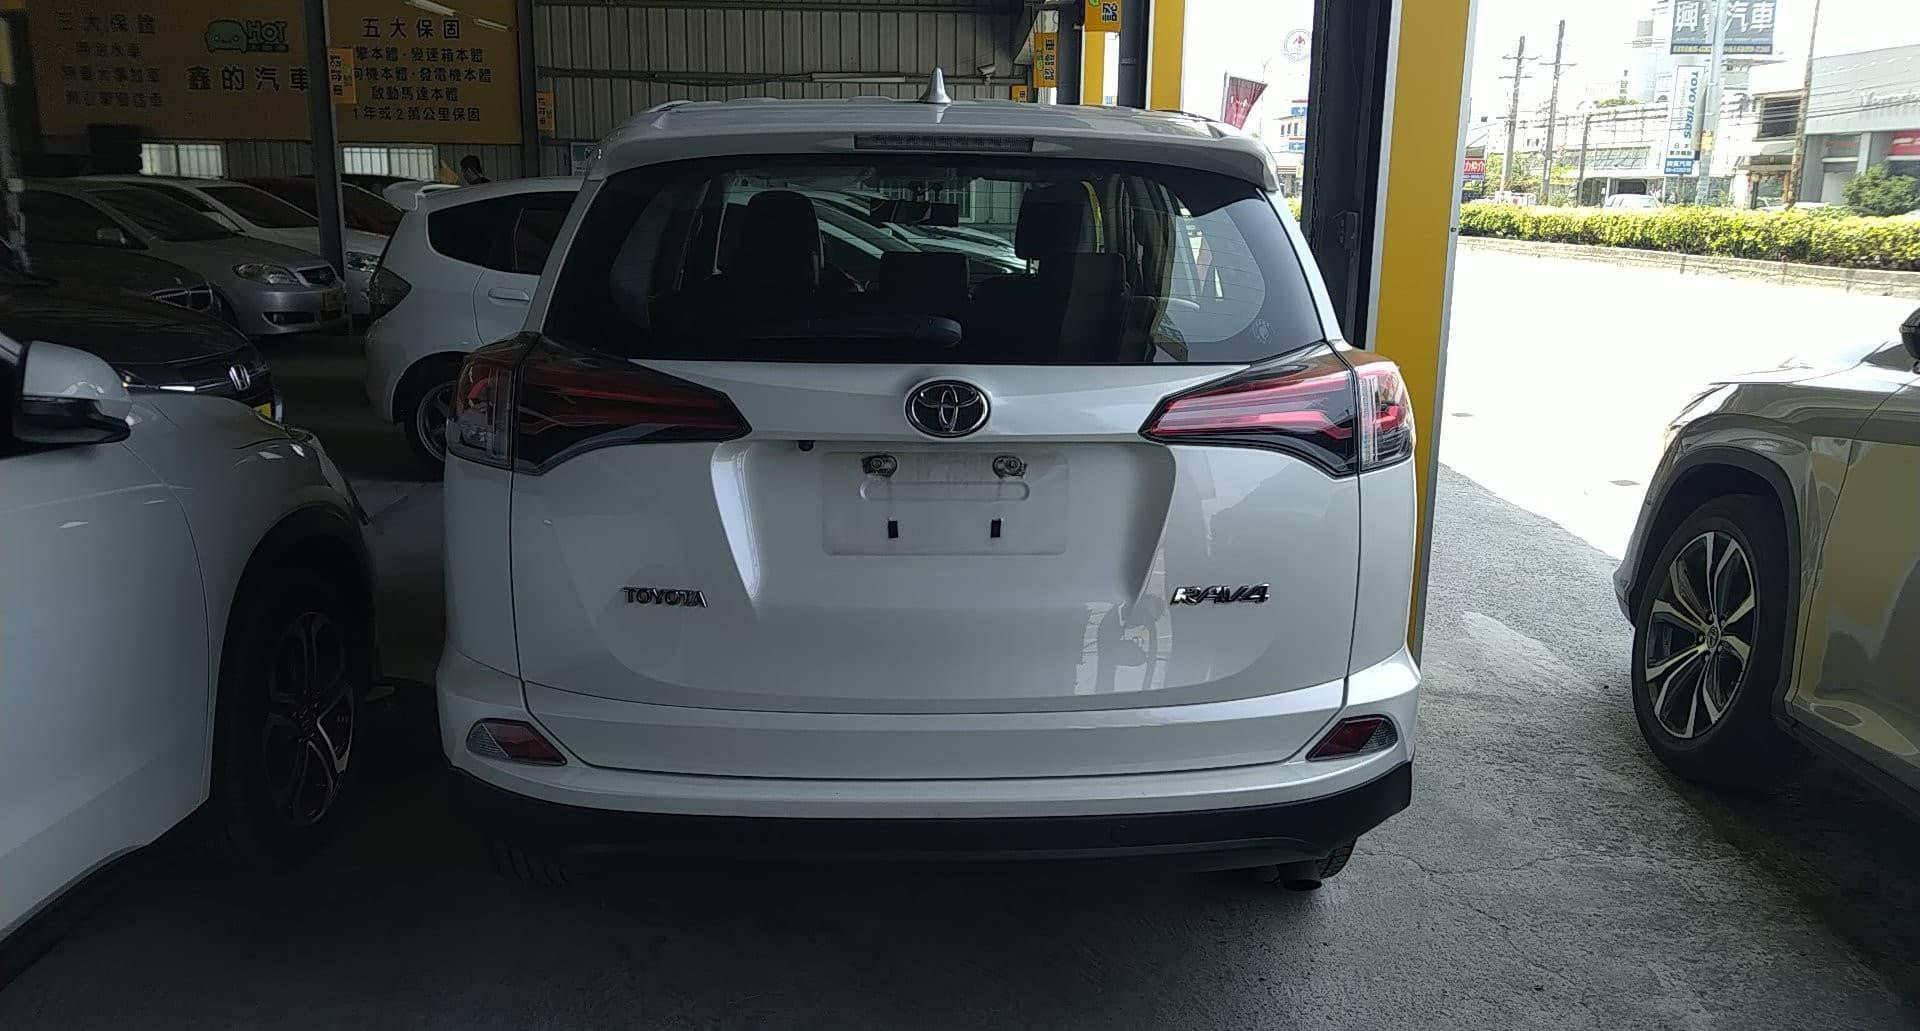toyota_rav4: (452, 100, 1404, 834)
